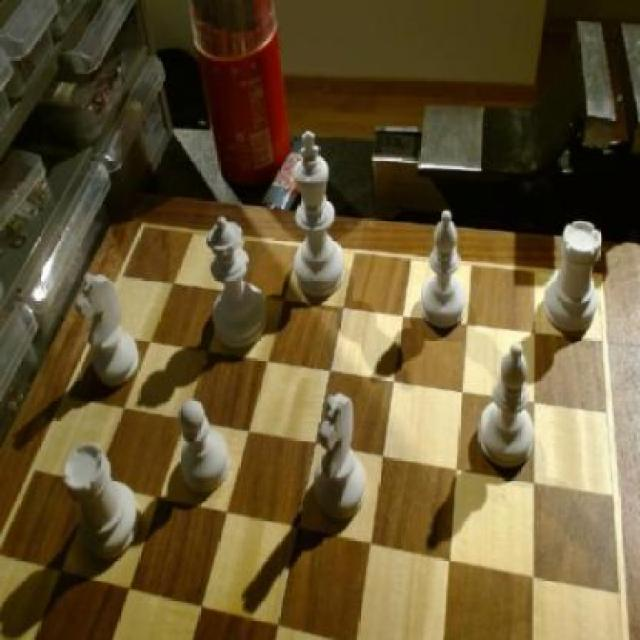black-rook: (474, 336, 543, 476), (420, 206, 470, 334)
white-bishop: (288, 130, 347, 302)
white-king: (306, 389, 372, 530), (75, 269, 140, 386)
white-knight: (171, 402, 232, 502)
white-pawn: (204, 209, 268, 354)
white-queen: (63, 438, 145, 564), (546, 214, 602, 341)
